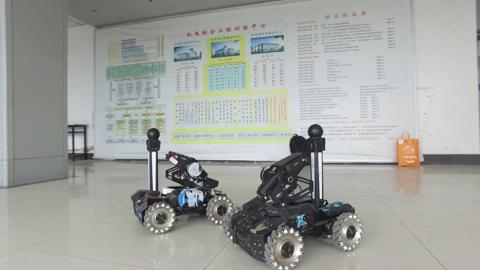chariot: (221, 117, 372, 268), (120, 123, 234, 240)
